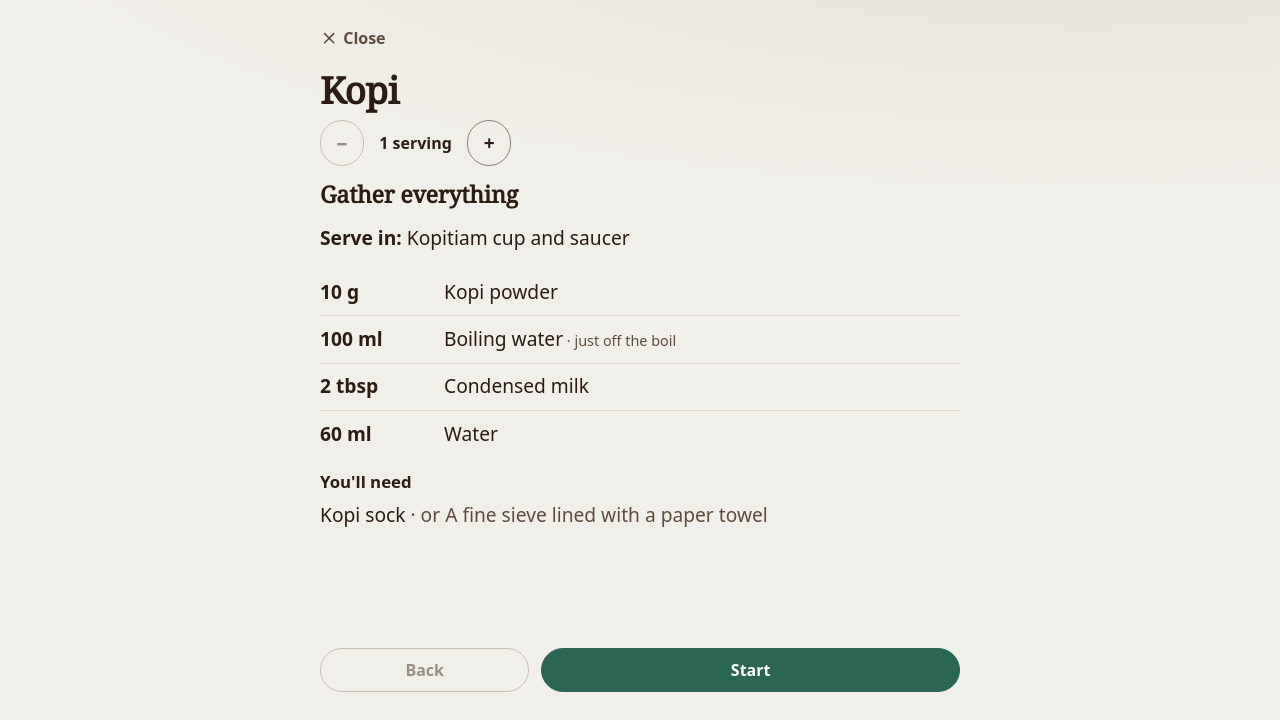
shows a step’s caution
Expected: the heading "Kopi" is shown, x1=320 y1=65 x2=399 y2=115
Click the button "Start" at {"x": 751, "y": 670}, box x1=541 y1=648 x2=960 y2=692
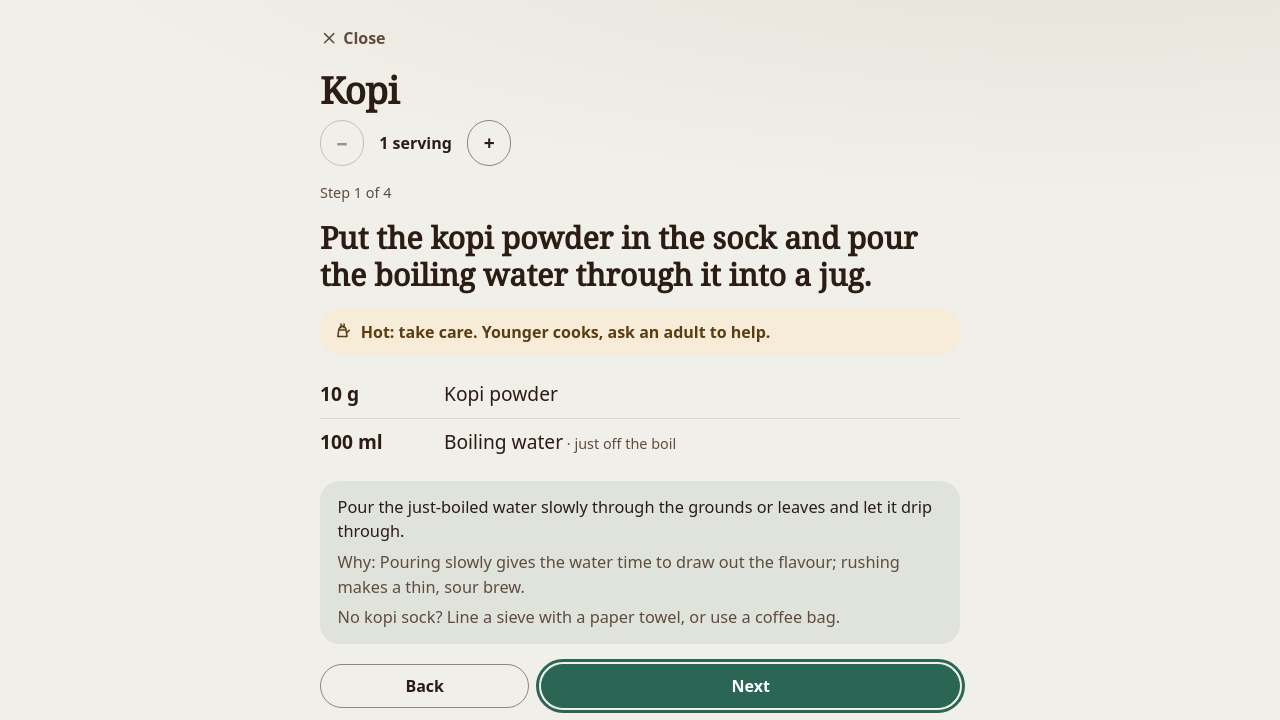
Expected: the text "Hot: take care. Younger cooks, ask an adult to help." is shown, x1=320 y1=309 x2=960 y2=355
